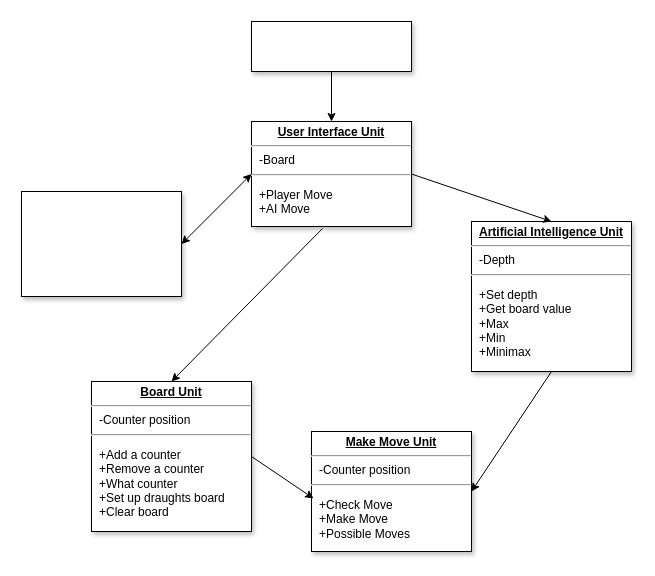
Image size: 655x576. Some labels were removed from this diagram. The centre of each missing label's shape, as x and y in pixels:
Main Program: the point at 332,47
Save/Load Unit -File name +Save board +Load board: the point at 102,245
